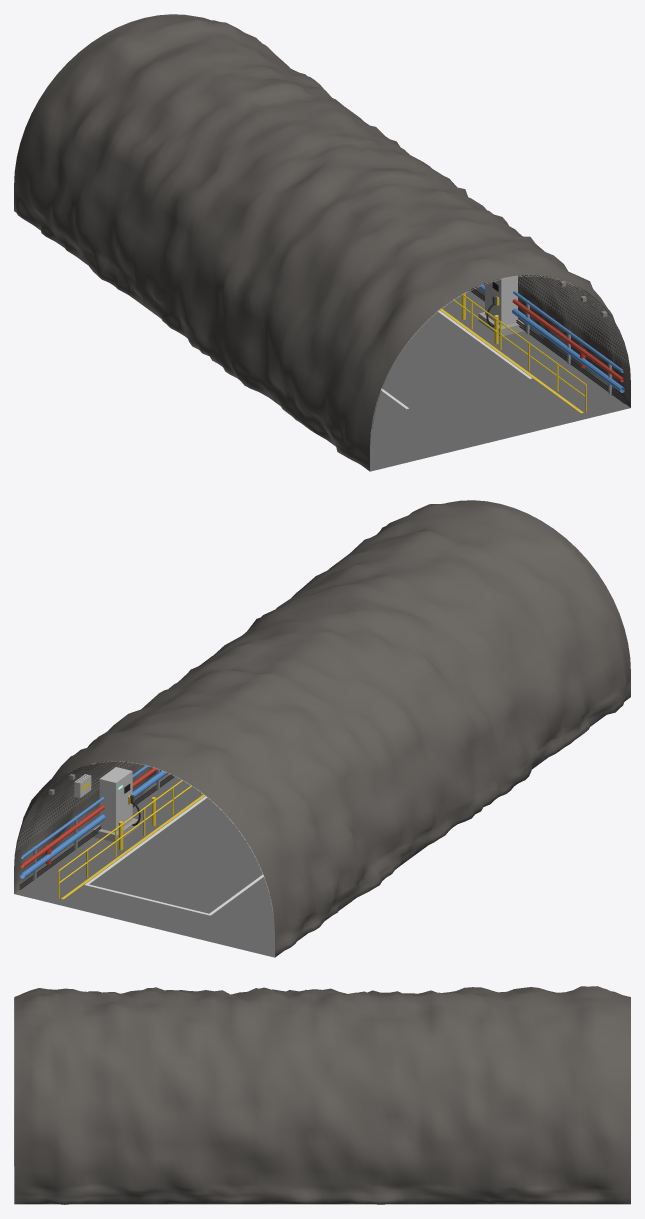
Rendered from UG_Charging_Bay.glb.
3 renders of one model, top to bottom at view 1: azimuth 30°, elevation 25°; view 2: azimuth 150°, elevation 25°; view 3: azimuth 270°, elevation 25°, orthographic. The views are drawn at different scales.
Visible parts, largest first — view 1: UG_Charging_Bay; view 2: UG_Charging_Bay; view 3: UG_Charging_Bay.
Part boxes in pixels (left/top/right/bottom): UG_Charging_Bay: left=14, top=14, right=630, bottom=471; UG_Charging_Bay: left=14, top=500, right=630, bottom=957; UG_Charging_Bay: left=14, top=986, right=630, bottom=1204.
Bounding box in the file's own units: 12 × 6.99 × 26.01.
